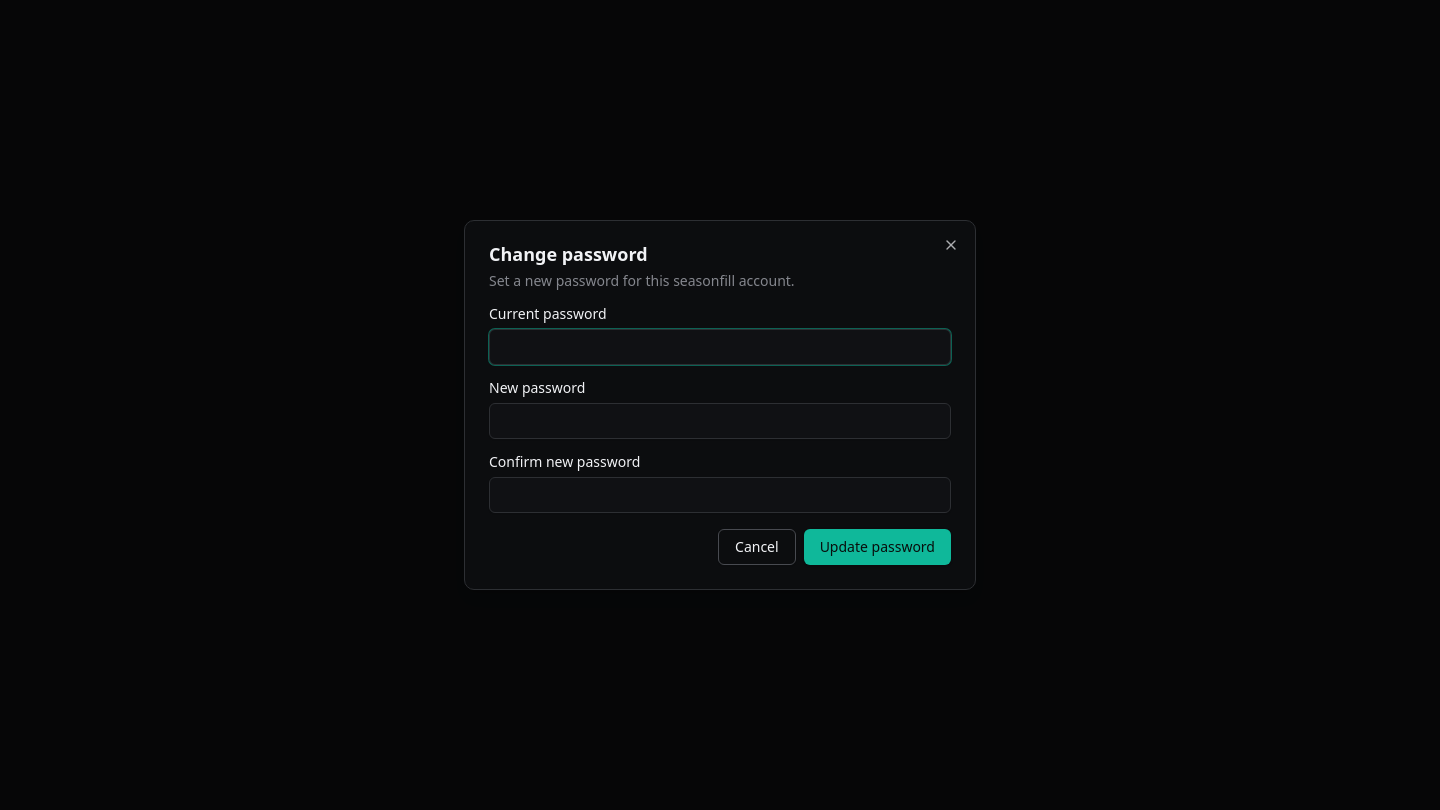
it: <PasswordChangeDialog /> › on 401 shows "Current password is incorrect"
Type "wrong" into the password field labelled "Current password".
click(720, 347); type("wrong")  # box [489,329,951,365]
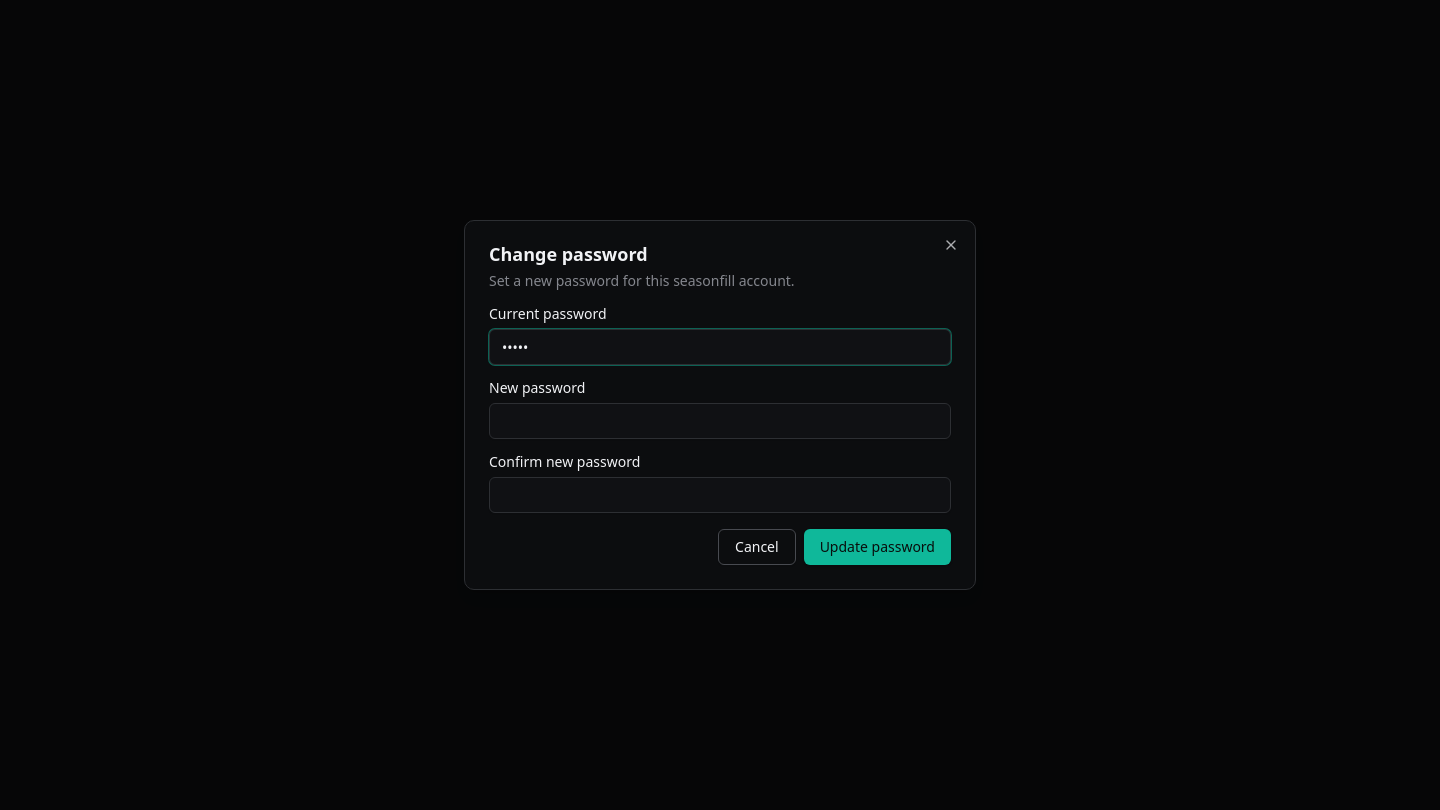
Type "longenoughpw" into the password field labelled "New password".
click(720, 421); type("longenoughpw")  # box [489,403,951,439]
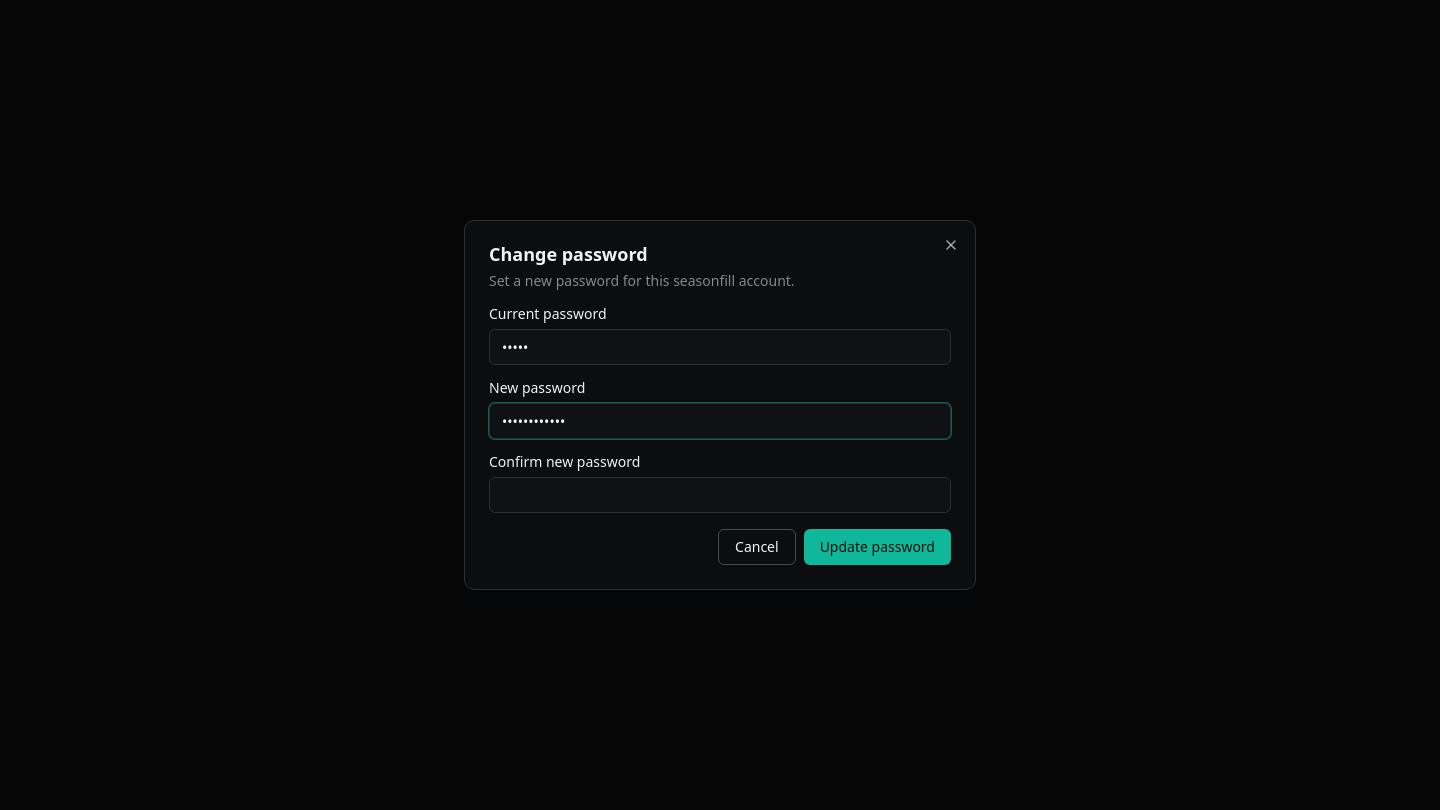
Type "longenoughpw" into the password field labelled "Confirm new password".
click(720, 495); type("longenoughpw")  # box [489,477,951,513]
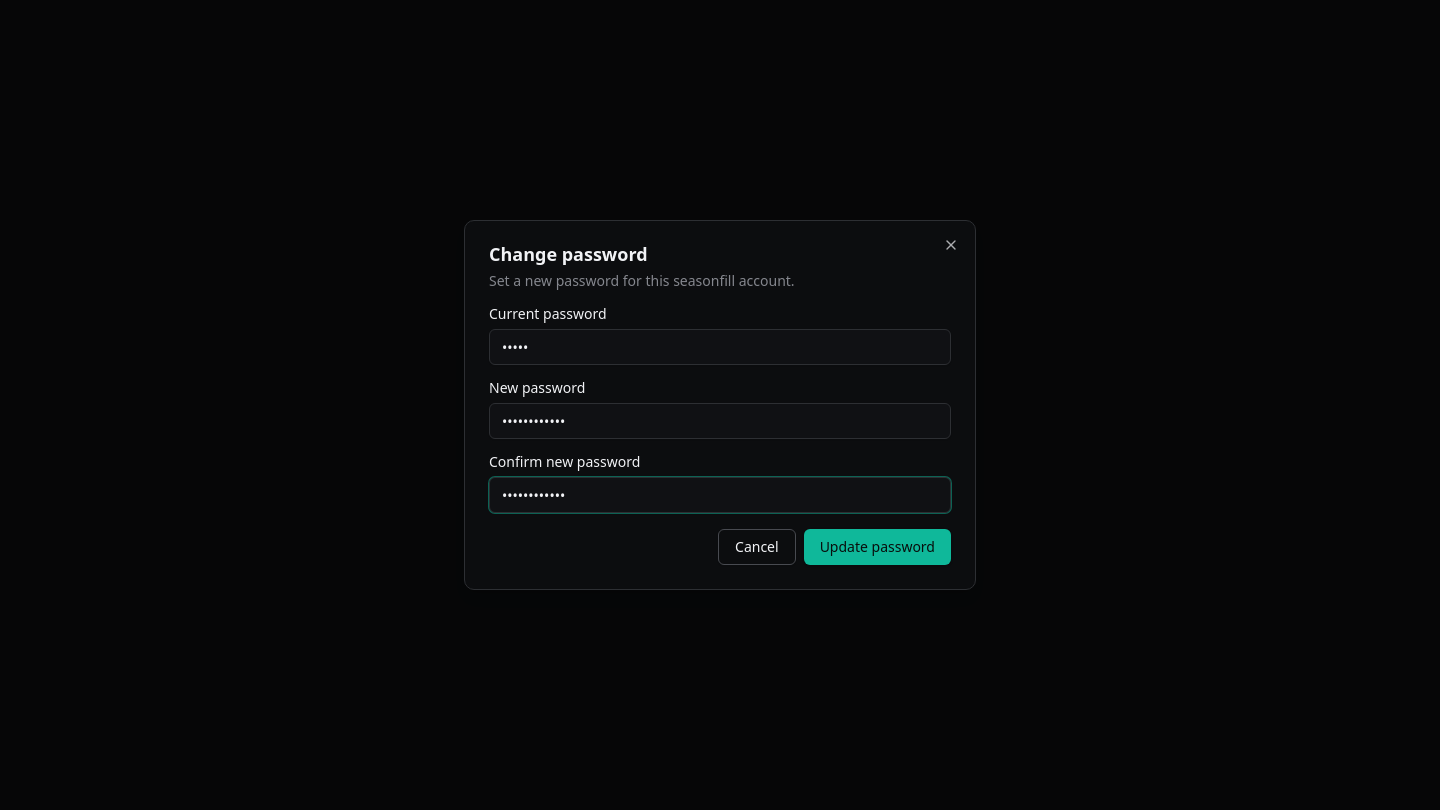
Click the button "Update password".
click(877, 547)  # box [804,529,951,565]
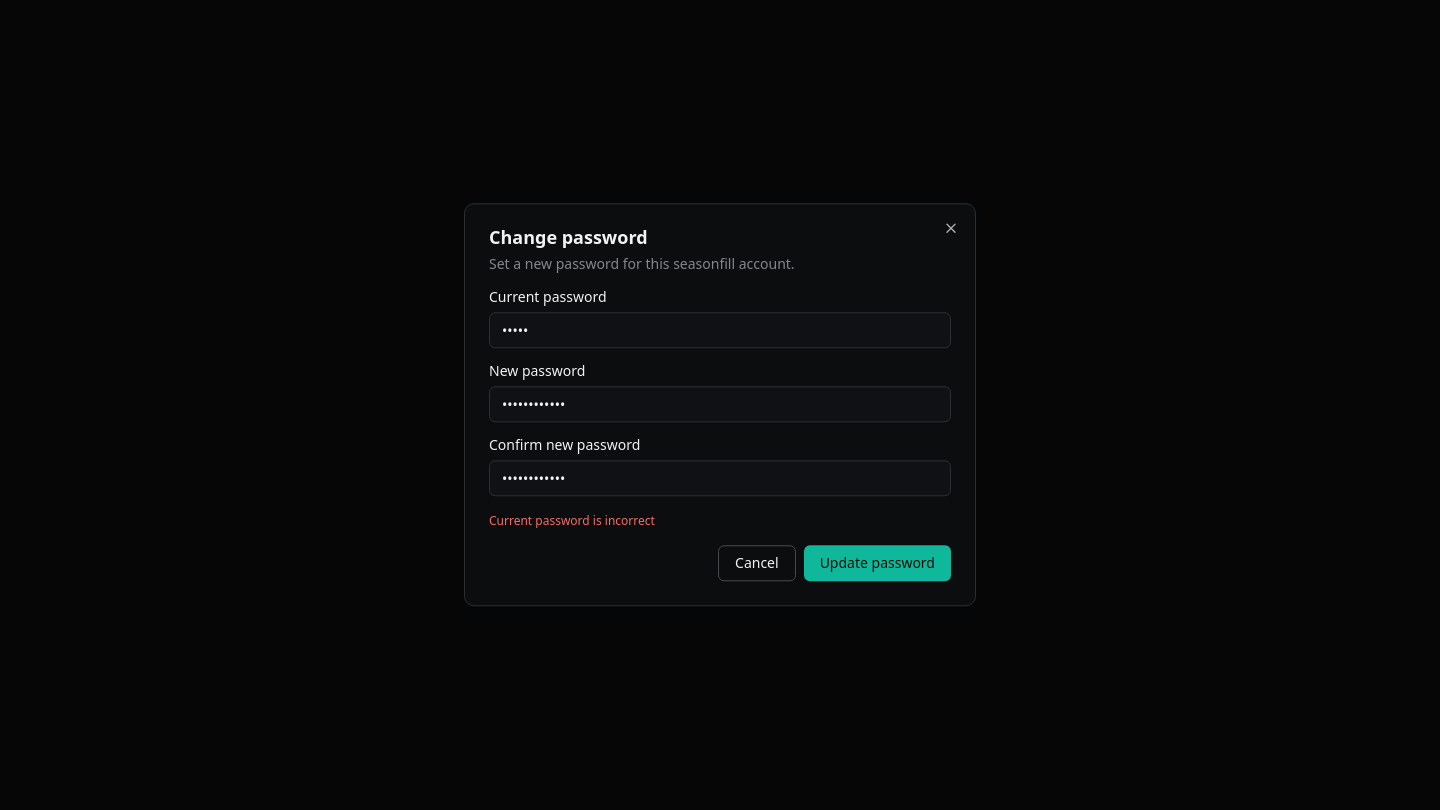
Result: the text "Current password is incorrect" is shown at [489,512,655,529]
